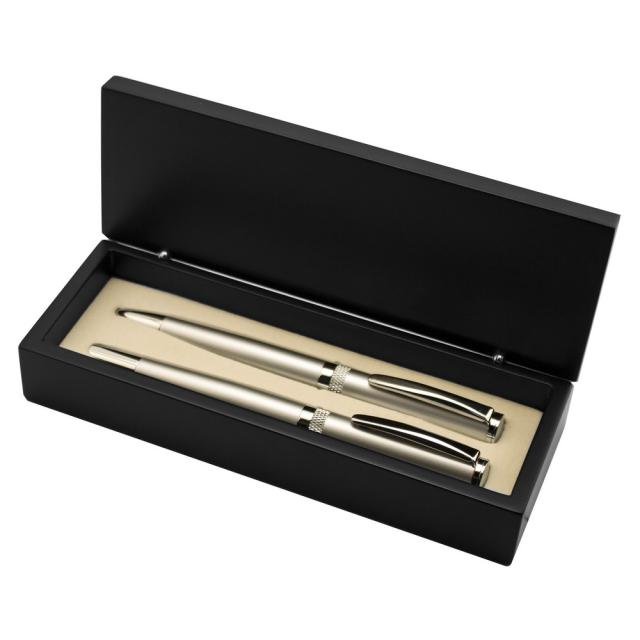pen: (77, 302, 511, 490)
